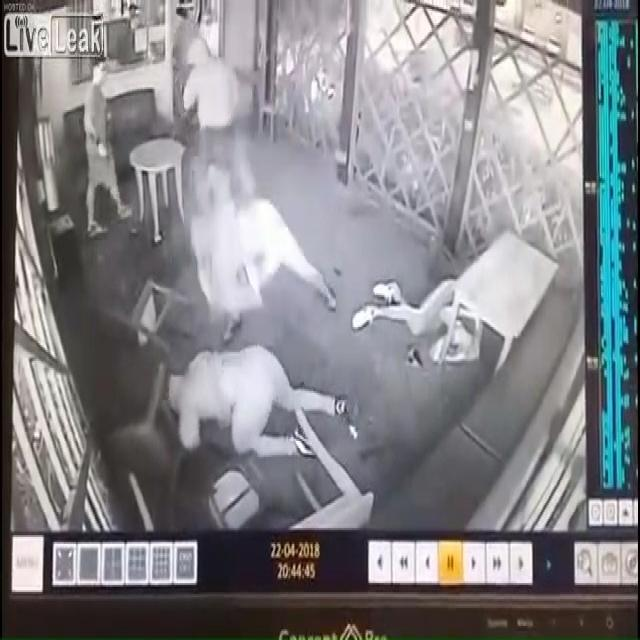fight: (167, 168, 346, 458)
